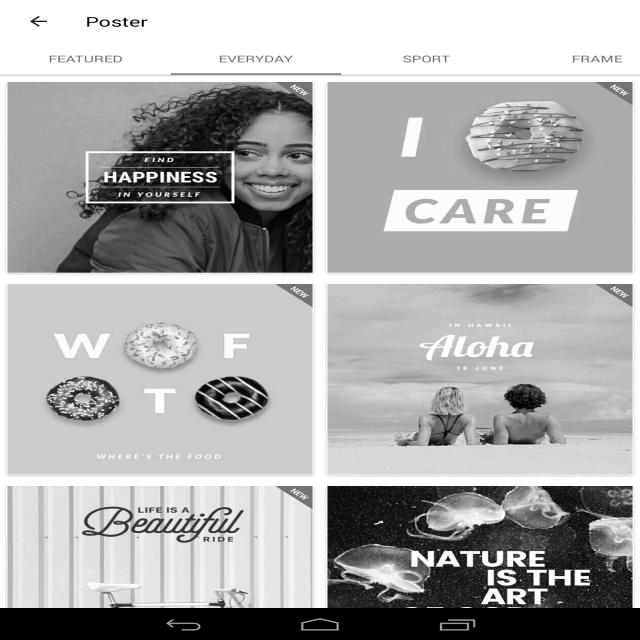ImageButton: (9, 0, 68, 43)
ImageView: (8, 82, 312, 273), (328, 82, 632, 273), (8, 284, 312, 475), (328, 284, 632, 475), (8, 486, 312, 640), (328, 486, 632, 640), (275, 82, 313, 105), (595, 82, 633, 105), (275, 284, 313, 307), (595, 284, 633, 307), (275, 486, 313, 509)
TextView: (85, 12, 148, 30), (48, 52, 123, 65), (218, 52, 292, 65), (572, 52, 622, 65), (403, 52, 450, 65)
